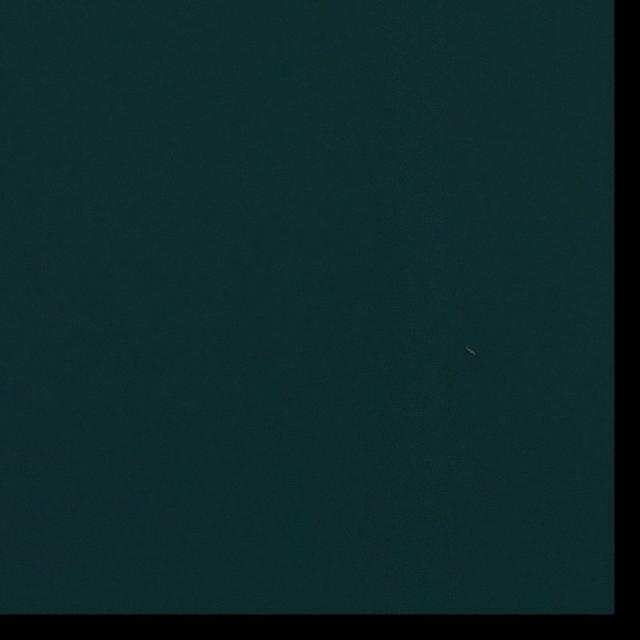ship: (466, 348, 478, 358)
